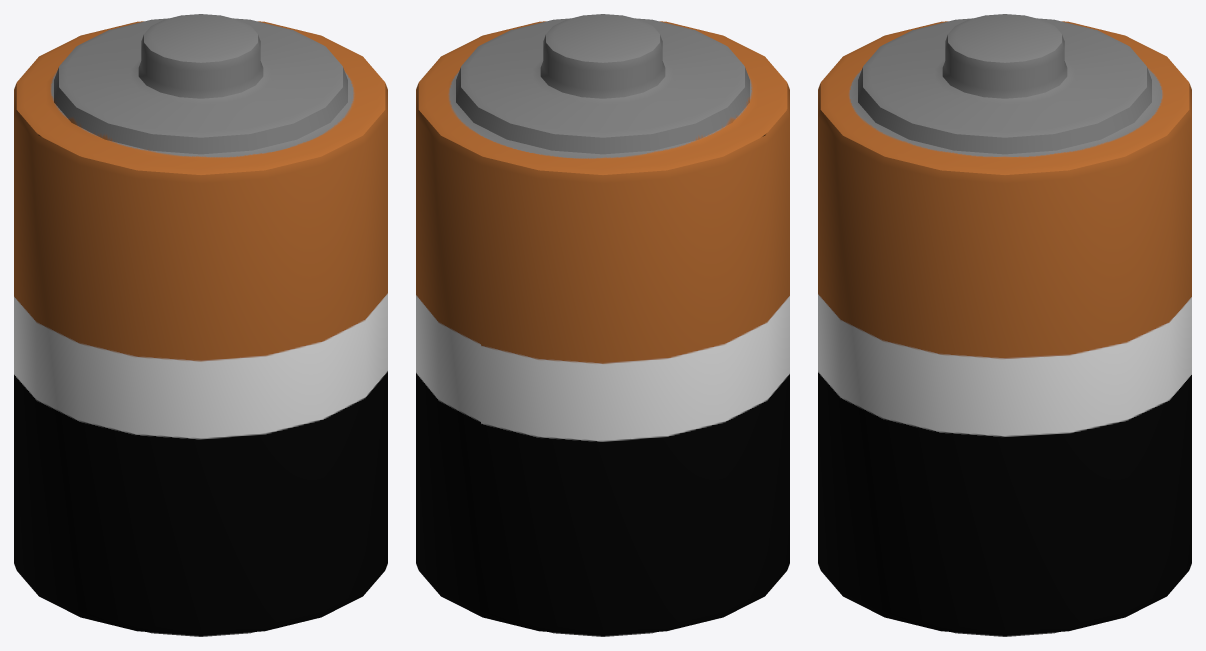
File: bateria.FBX
3 renders of one model, left to right at view 1: azimuth 30°, elevation 25°; view 2: azimuth 150°, elevation 25°; view 3: azimuth 270°, elevation 25°, orthographic.
Parts seen in each view (by area): view 1: Cylinder001; view 2: Cylinder001; view 3: Cylinder001.
Part boxes in pixels (bbox=[...]): Cylinder001: bbox=[14, 14, 387, 636]; Cylinder001: bbox=[416, 14, 789, 636]; Cylinder001: bbox=[818, 14, 1191, 636].
Bounding box in the file's own units: 17.89 × 28.22 × 17.62.
1 material, 1 textured.
